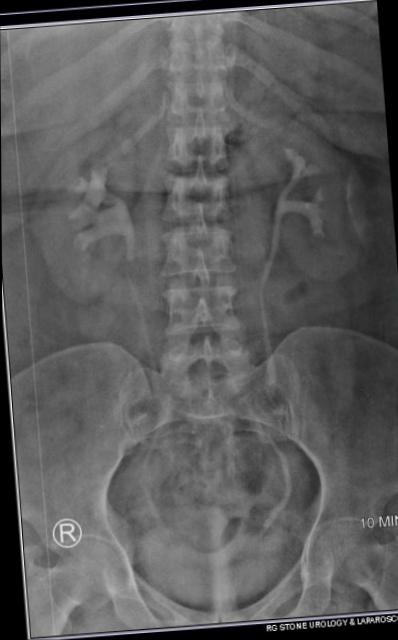bladder: (130, 514, 300, 623)
left kidney: (238, 100, 379, 298)
right kidney: (11, 117, 146, 316)
vertebrae: (156, 117, 228, 176)
